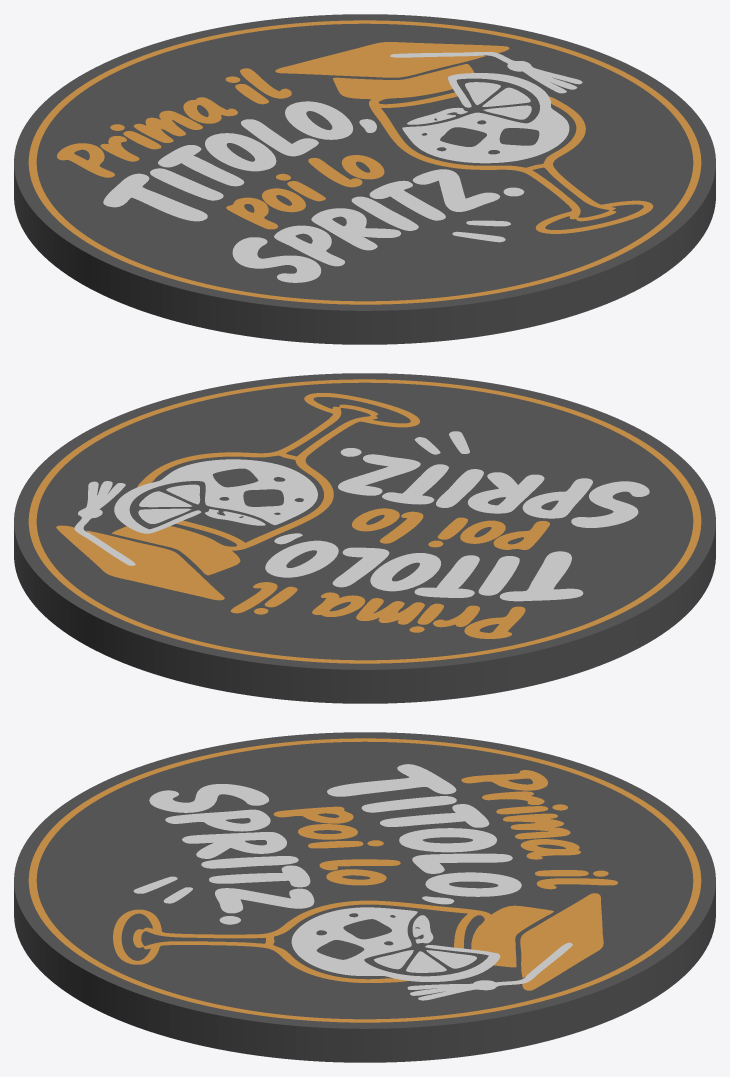
The model's file is sottobicchiere-prima-titolo-poi-spritz.glb.
3 renders of one model, top to bottom at view 1: azimuth 30°, elevation 25°; view 2: azimuth 150°, elevation 25°; view 3: azimuth 270°, elevation 25°, orthographic.
Parts seen in each view (by area): view 1: coaster_base, coaster_ink, coaster_accent; view 2: coaster_base, coaster_ink, coaster_accent; view 3: coaster_base, coaster_ink, coaster_accent.
Boxes of the visible parts, x1=… form: coaster_base: x1=14, y1=14, x2=715, y2=344; coaster_ink: x1=28, y1=20, x2=701, y2=304; coaster_accent: x1=103, y1=52, x2=582, y2=282; coaster_base: x1=14, y1=373, x2=715, y2=703; coaster_ink: x1=28, y1=379, x2=701, y2=663; coaster_accent: x1=74, y1=431, x2=649, y2=601; coaster_base: x1=14, y1=732, x2=715, y2=1062; coaster_ink: x1=28, y1=738, x2=701, y2=1022; coaster_accent: x1=133, y1=764, x2=572, y2=1000.
Size of the model in its own units: 0.075 by 0.004 by 0.075.
